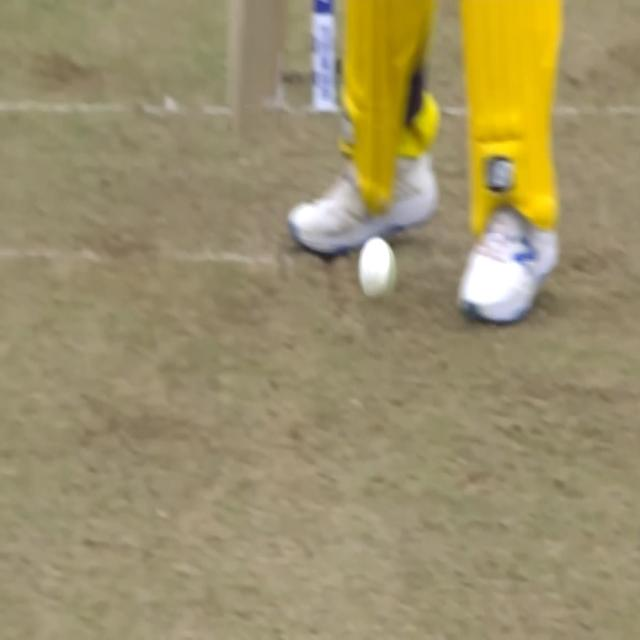ball: (355, 234, 398, 302)
